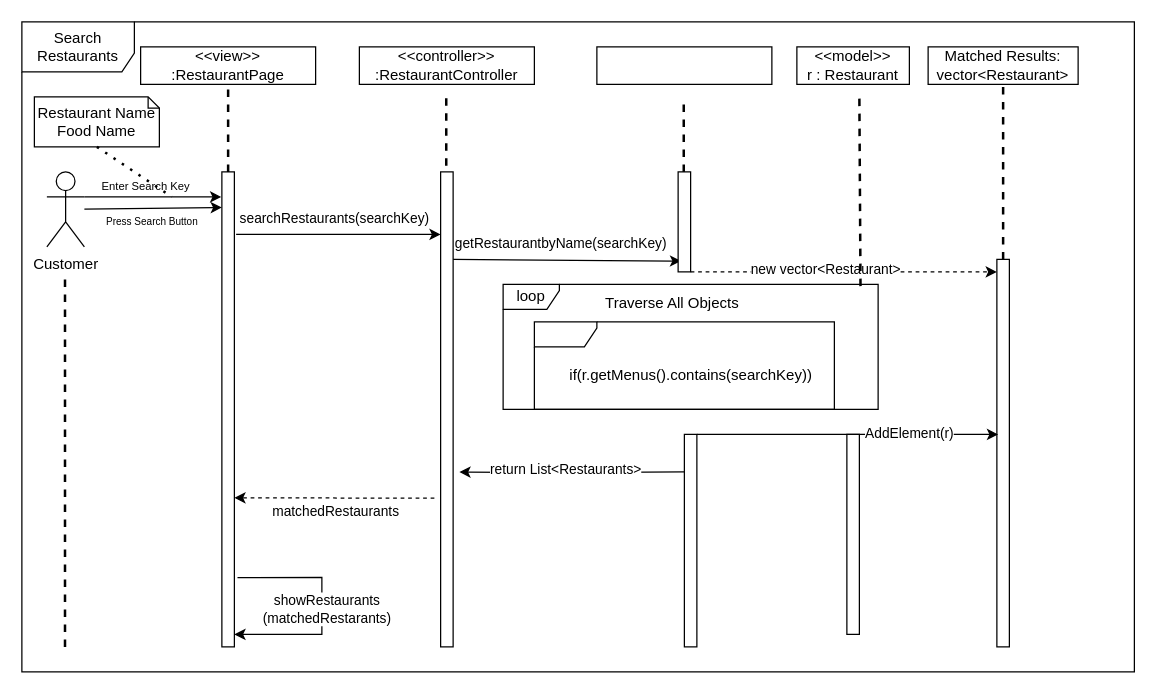
Image size: 1156x694. Some labels were removed from this diagram. The shapes that lost their labels are listed below. From the top down, each one's centre as x and y in pixels, then its label:
At point 684,65: "<<controller>> :RestaurantService".
At point 683,365: "alt".
